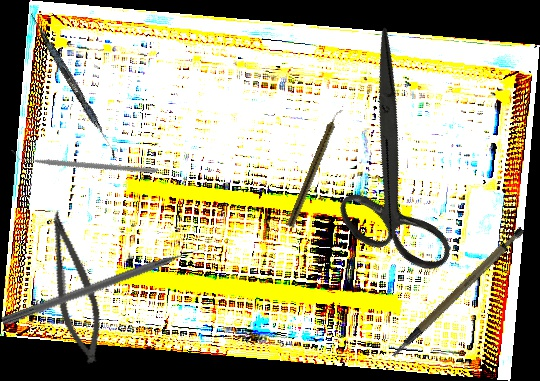Chopper: (11, 94, 159, 227)
Handpiece: (286, 106, 344, 230)
Iris Scissors: (264, 27, 521, 297)
Micro Scissor: (32, 206, 114, 368)
Pusher: (0, 242, 210, 328)
Scalpel Handle: (373, 224, 540, 359)
Spatula Surgical: (25, 12, 122, 159)
